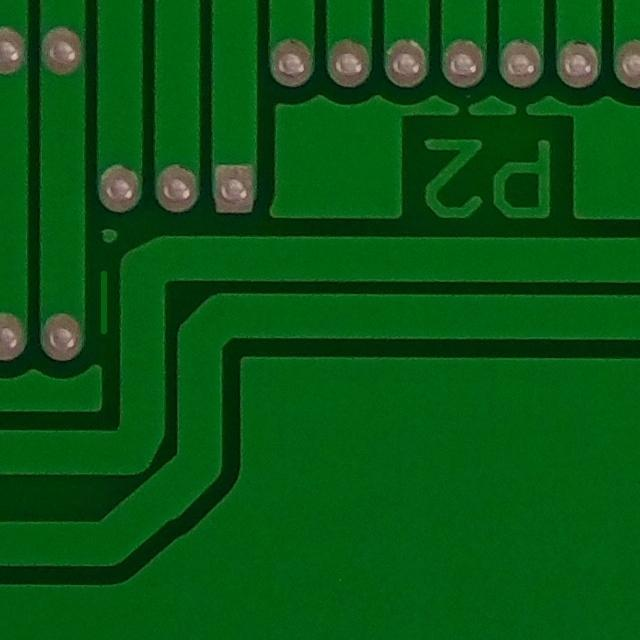spurious_copper: (85, 261, 123, 342)
